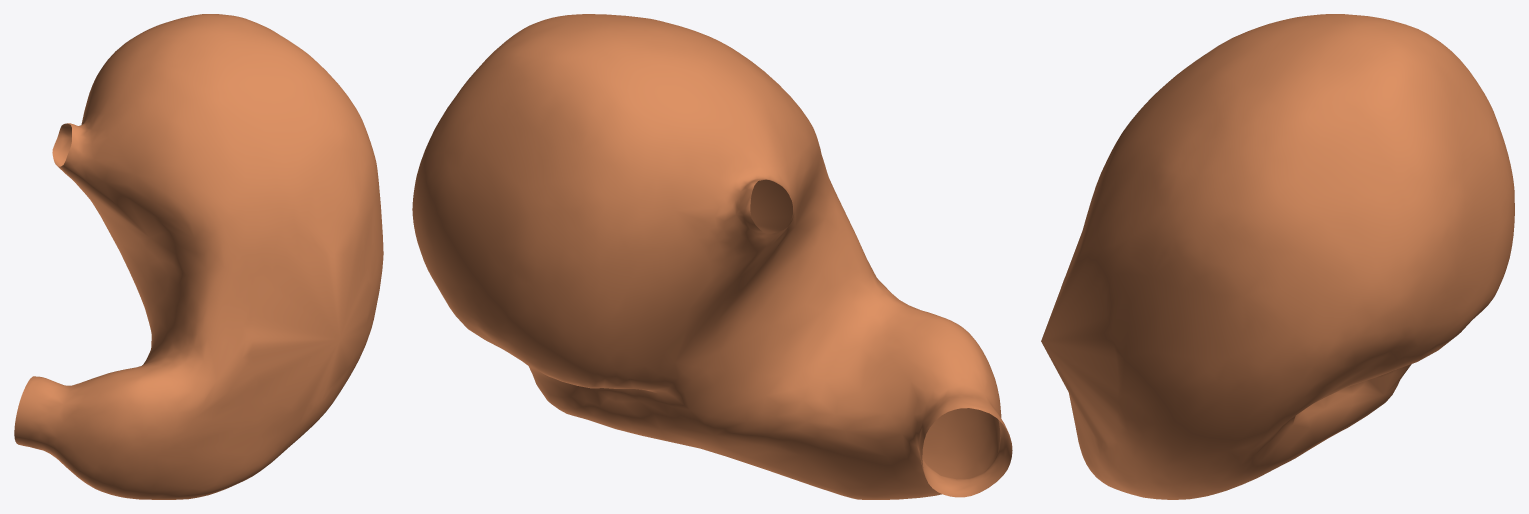
The model's file is stomach.glb.
3 renders of one model, left to right at view 1: azimuth 30°, elevation 25°; view 2: azimuth 150°, elevation 25°; view 3: azimuth 270°, elevation 25°, orthographic. The views are drawn at different scales.
Parts seen in each view (by area): view 1: AnatomyLayer; view 2: AnatomyLayer; view 3: AnatomyLayer.
Boxes of the visible parts, x1,y1,x2,y2 form: AnatomyLayer: [14, 14, 383, 499]; AnatomyLayer: [412, 14, 1012, 499]; AnatomyLayer: [1041, 14, 1514, 499].
Size of the model in its own units: 13.42 by 12.55 by 10.89.
